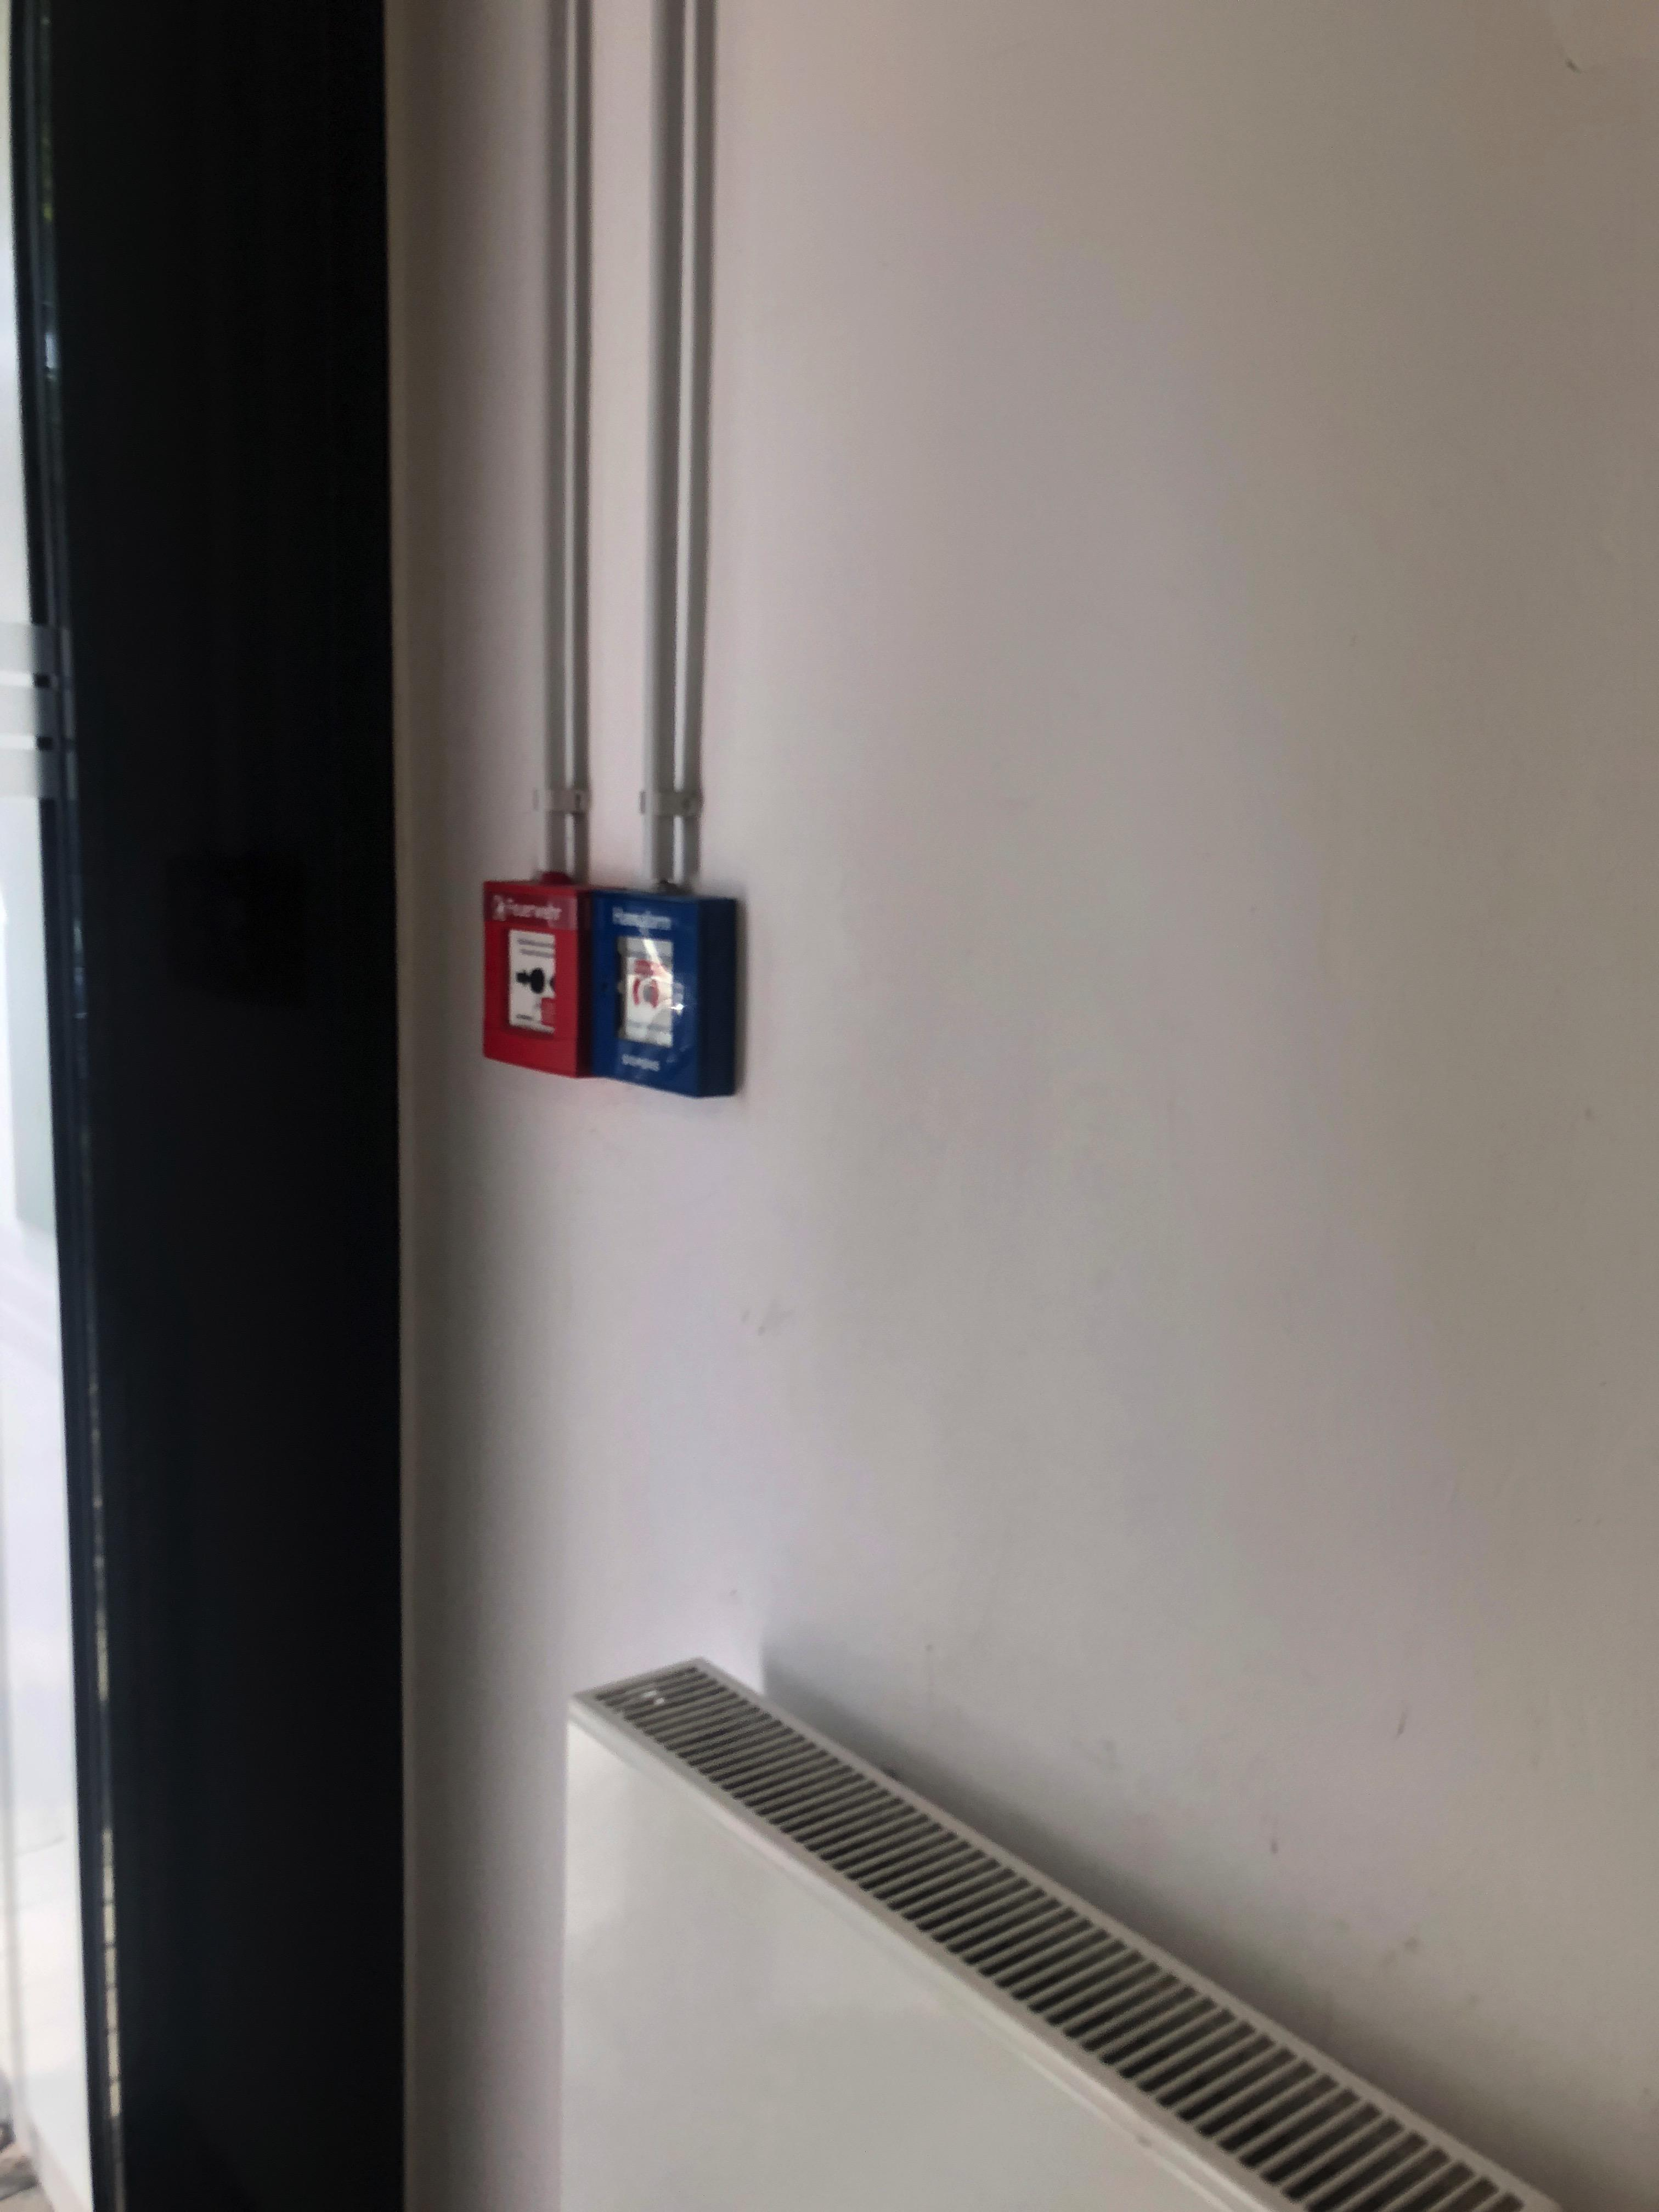call_point: (592, 888, 739, 1101), (483, 876, 610, 1080)
